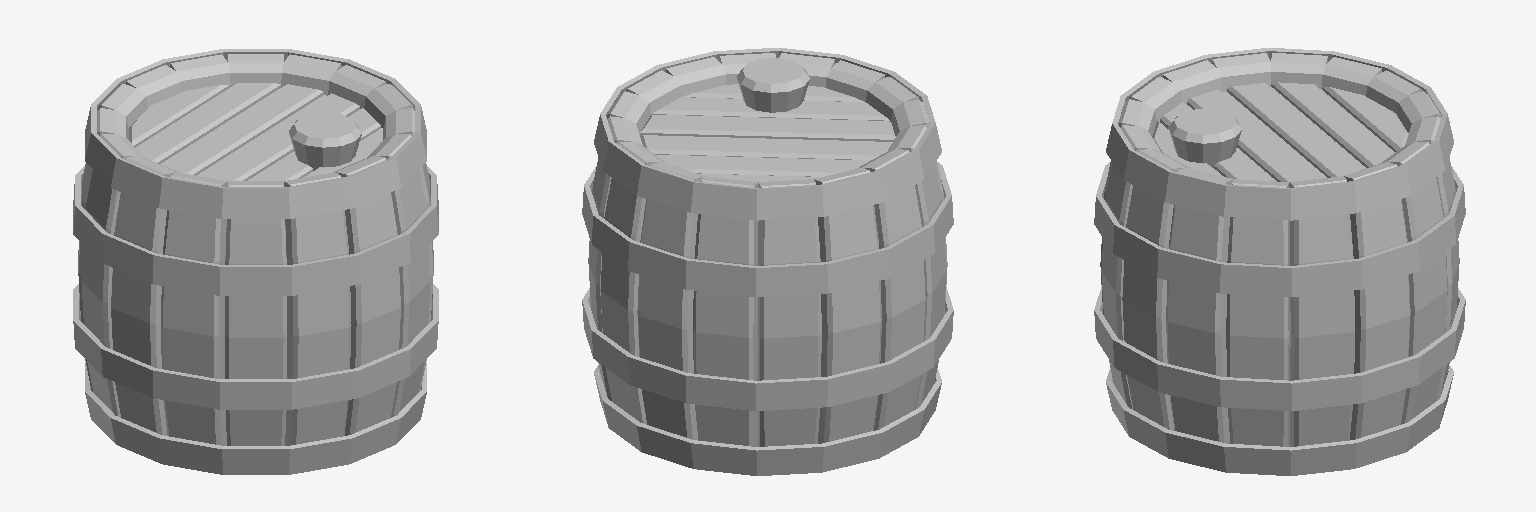
File: Barrel6.obj
The picture shows the model from 3 angles: view 1: azimuth 30°, elevation 25°; view 2: azimuth 150°, elevation 25°; view 3: azimuth 270°, elevation 25°; orthographic projection.
Visible parts, largest first — view 1: Barrel6; view 2: Barrel6; view 3: Barrel6.
Part boxes in pixels (left/top/right/bottom): Barrel6: left=73, top=49, right=438, bottom=474; Barrel6: left=582, top=48, right=953, bottom=475; Barrel6: left=1094, top=48, right=1465, bottom=475.
Size of the model in its own units: 3.68 by 3.28 by 3.68.